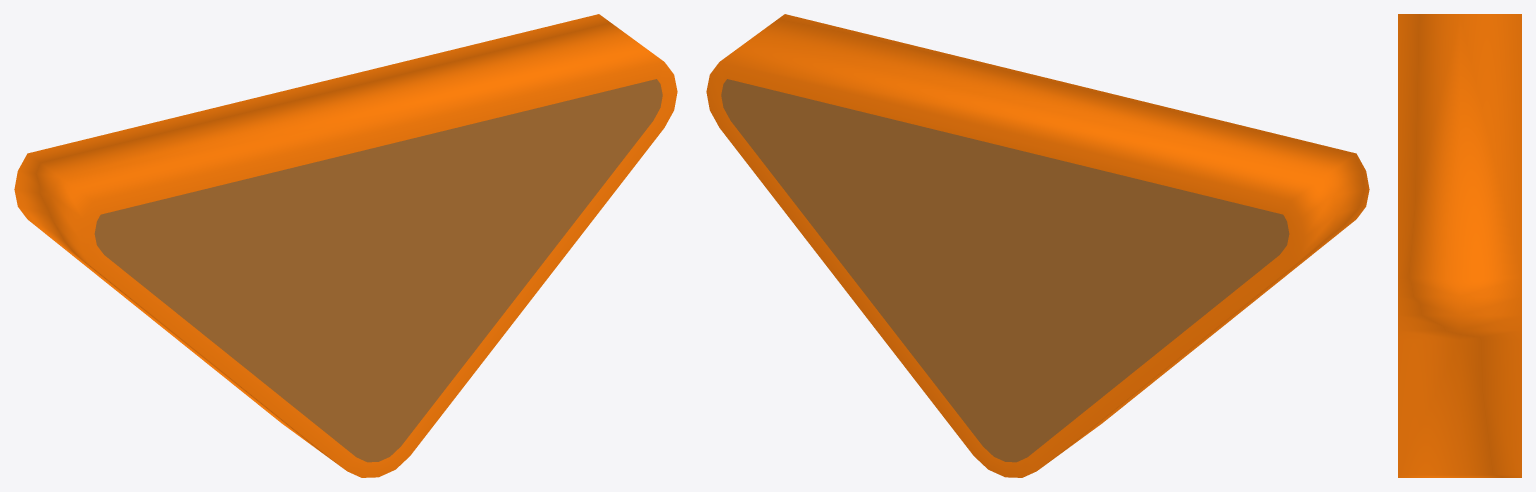
Rendered from arrow_bar.glb.
The picture shows the model from 3 angles, left to right: view 1: azimuth 30°, elevation 25°; view 2: azimuth 150°, elevation 25°; view 3: azimuth 270°, elevation 25°; orthographic projection. The views are drawn at different scales.
Parts seen in each view (by area): view 1: Cube.004; view 2: Cube.004; view 3: Cube.004.
Boxes of the visible parts, left/top/right/bottom form: Cube.004: left=14, top=14, right=677, bottom=477; Cube.004: left=706, top=14, right=1369, bottom=477; Cube.004: left=1398, top=14, right=1521, bottom=477.
Bounding box in the file's own units: 2.01 × 1.11 × 0.3804.
1 material, 1 textured.
